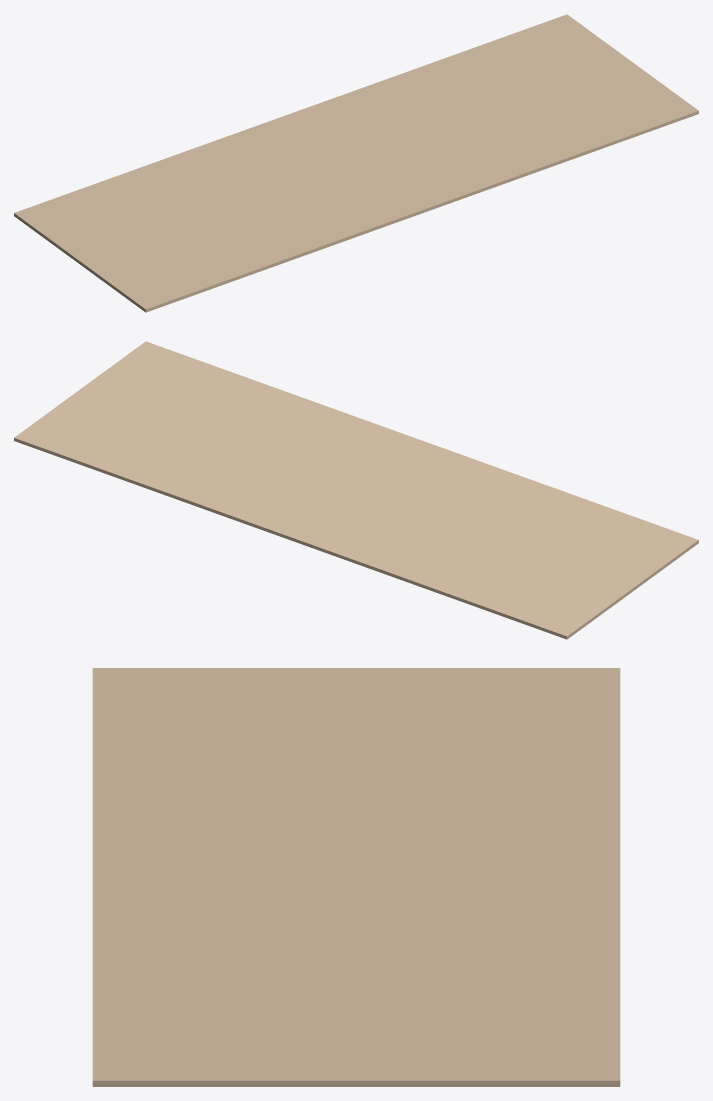
The model's file is roof-skin-left-02.glb.
3 renders of one model, top to bottom at view 1: azimuth 30°, elevation 25°; view 2: azimuth 150°, elevation 25°; view 3: azimuth 270°, elevation 25°, orthographic. The views are drawn at different scales.
Visible parts, largest first — view 1: piece0; view 2: piece0; view 3: piece0.
Boxes of the visible parts, x1,y1,x2,y2 form: piece0: [14, 14, 698, 312]; piece0: [14, 341, 698, 639]; piece0: [92, 668, 620, 1086].
Bounding box in the file's own units: 21.8 × 2.52 × 9.
